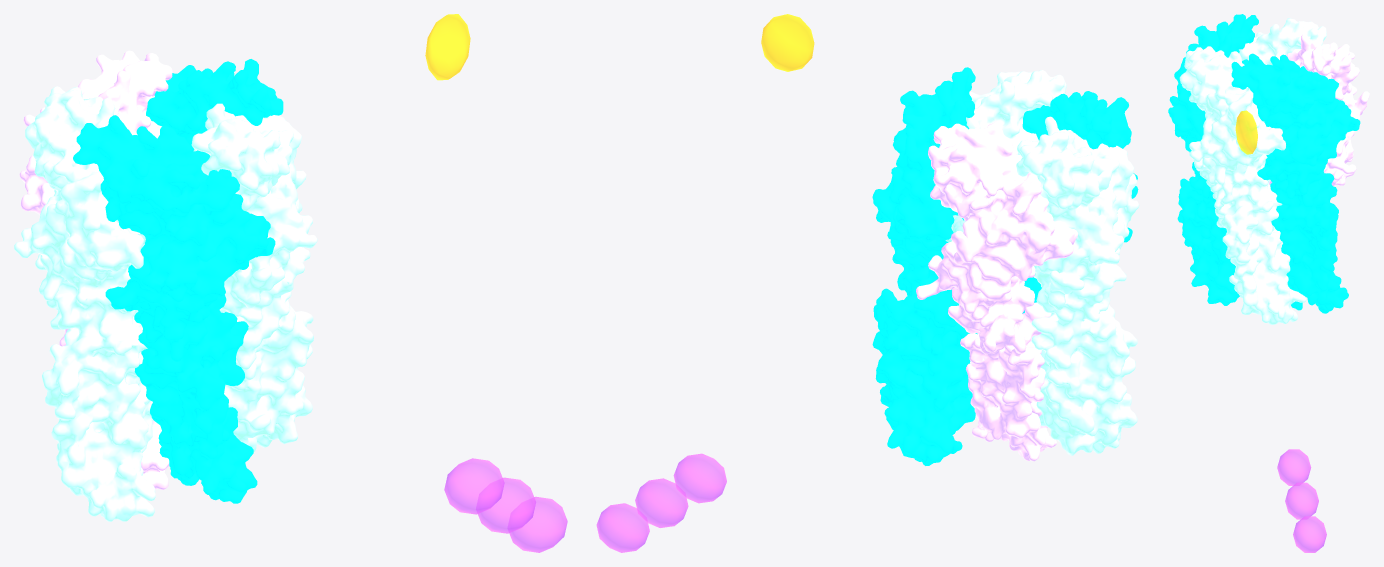
The model's file is heart-micro-responding-2.glb.
3 renders of one model, left to right at view 1: azimuth 30°, elevation 25°; view 2: azimuth 150°, elevation 25°; view 3: azimuth 270°, elevation 25°, orthographic. The views are drawn at different scales.
Parts seen in each view (by area): view 1: Object_12, Object_6, Object_8, Object_10, Object_4, AmyloidChain_0, AmyloidChain_1, AmyloidChain_2, MisfoldedMonomer_0; view 2: Object_10, Object_6, Object_4, Object_12, Object_8, MisfoldedMonomer_0, AmyloidChain_0, AmyloidChain_1, AmyloidChain_2; view 3: Object_8, Object_4, Object_12, Object_10, Object_6, AmyloidChain_1, AmyloidChain_0, AmyloidChain_2, MisfoldedMonomer_0.
Boxes of the visible parts, x1=… form: Object_12: x1=73, y1=115, x2=275, y2=503; Object_6: x1=14, y1=86, x2=155, y2=521; Object_8: x1=191, y1=103, x2=317, y2=451; Object_10: x1=19, y1=50, x2=172, y2=489; Object_4: x1=146, y1=59, x2=283, y2=151; AmyloidChain_0: x1=444, y1=458, x2=504, y2=514; AmyloidChain_1: x1=476, y1=477, x2=536, y2=533; AmyloidChain_2: x1=508, y1=496, x2=567, y2=552; MisfoldedMonomer_0: x1=425, y1=14, x2=470, y2=80; Object_10: x1=916, y1=121, x2=1078, y2=461; Object_6: x1=1016, y1=116, x2=1139, y2=455; Object_4: x1=872, y1=67, x2=977, y2=465; Object_12: x1=1022, y1=91, x2=1138, y2=313; Object_8: x1=966, y1=70, x2=1066, y2=154; MisfoldedMonomer_0: x1=761, y1=14, x2=814, y2=71; AmyloidChain_0: x1=673, y1=453, x2=726, y2=503; AmyloidChain_1: x1=635, y1=478, x2=688, y2=527; AmyloidChain_2: x1=596, y1=503, x2=649, y2=552; Object_8: x1=1179, y1=46, x2=1306, y2=324; Object_4: x1=1231, y1=53, x2=1360, y2=313; Object_12: x1=1168, y1=14, x2=1258, y2=305; Object_10: x1=1269, y1=34, x2=1369, y2=185; Object_6: x1=1239, y1=18, x2=1326, y2=186; AmyloidChain_1: x1=1285, y1=482, x2=1318, y2=519; AmyloidChain_0: x1=1277, y1=449, x2=1311, y2=485; AmyloidChain_2: x1=1293, y1=516, x2=1326, y2=552; MisfoldedMonomer_0: x1=1235, y1=110, x2=1257, y2=154.
Bounding box in the file's own units: 2.72 × 2.77 × 1.28.
